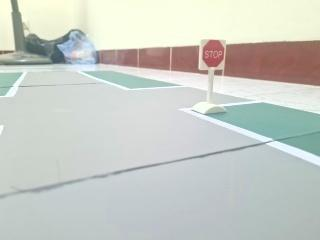stop: (200, 36, 229, 73)
